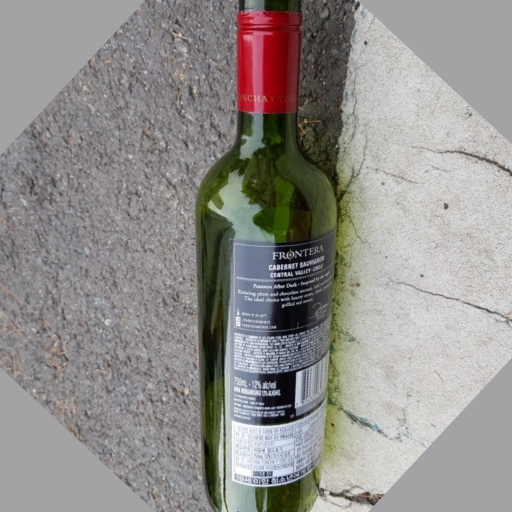Glass_2: (189, 2, 341, 512)
